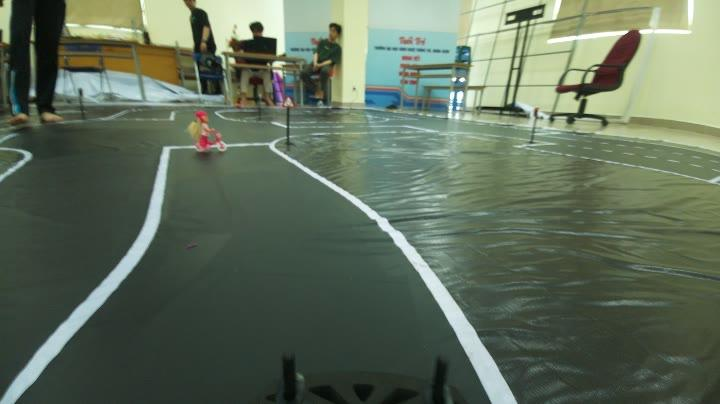pedestrian: (185, 106, 230, 156)
